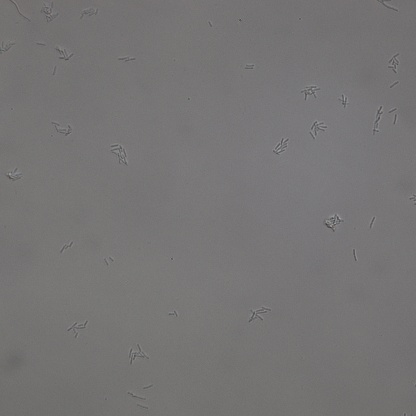R(colony): (127, 342, 150, 363), (109, 142, 129, 165), (68, 319, 88, 340), (249, 303, 271, 321), (300, 83, 321, 101), (324, 214, 343, 233), (52, 120, 75, 135), (309, 120, 326, 140), (371, 105, 384, 131), (41, 3, 58, 21), (271, 138, 288, 156), (387, 53, 401, 74), (56, 47, 75, 62), (4, 167, 23, 181), (129, 393, 145, 400), (243, 63, 254, 69)
